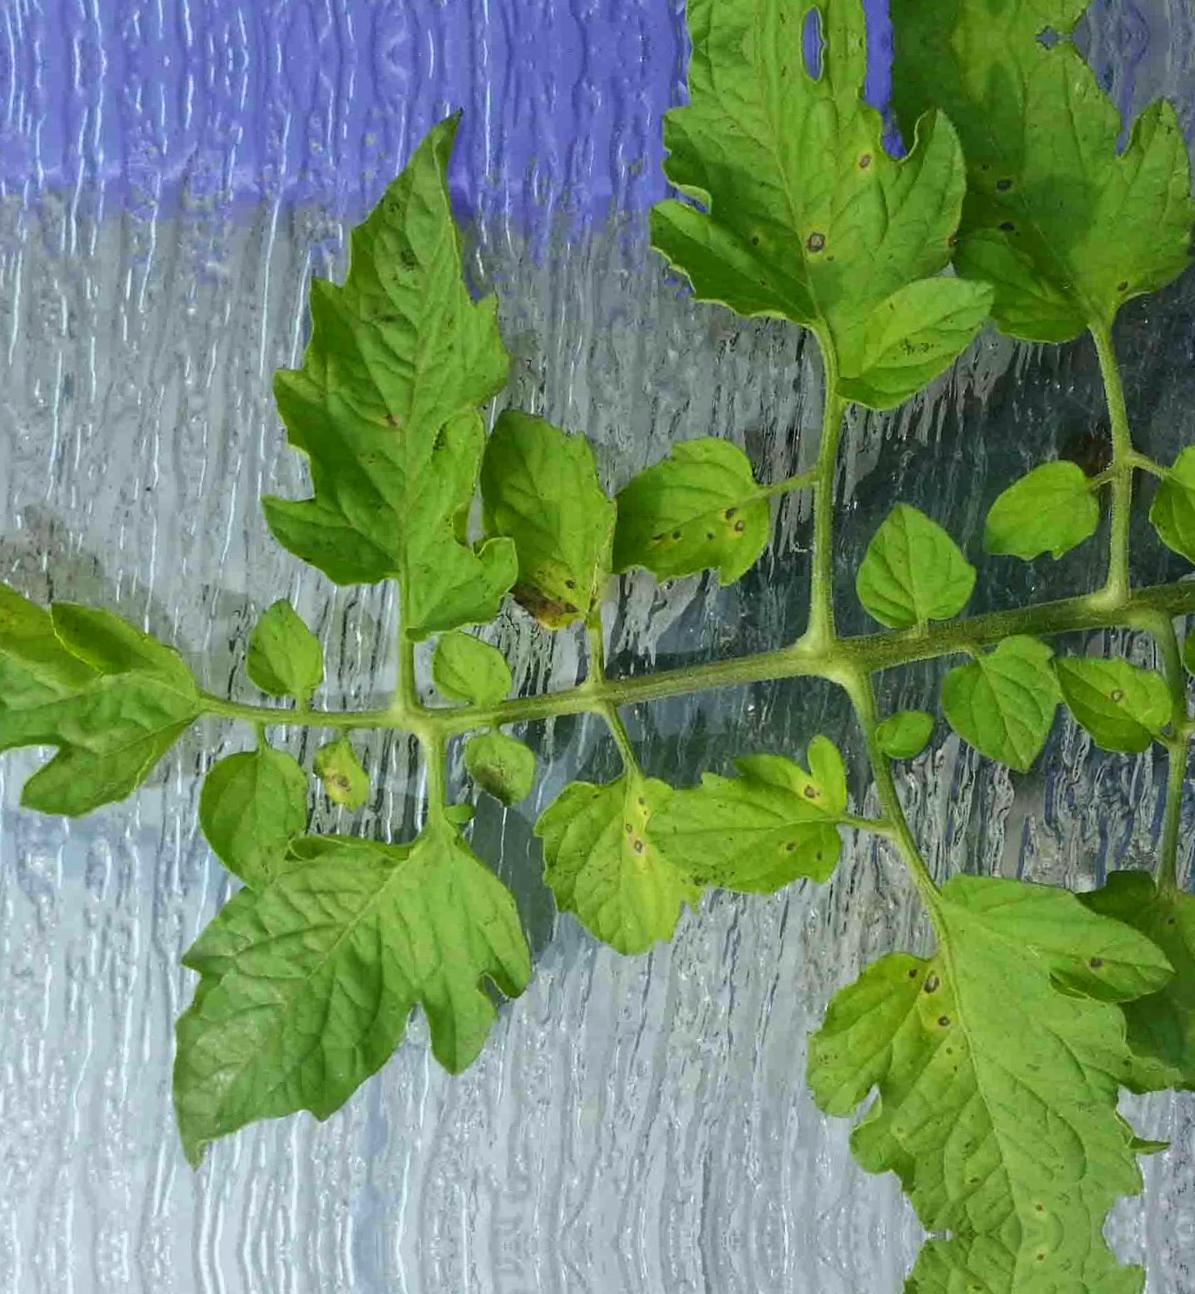Tomato Septoria leaf spot: (630, 38, 1016, 419), (811, 878, 1195, 1239), (634, 724, 884, 954), (532, 748, 722, 961), (587, 428, 807, 608), (468, 402, 614, 655)
